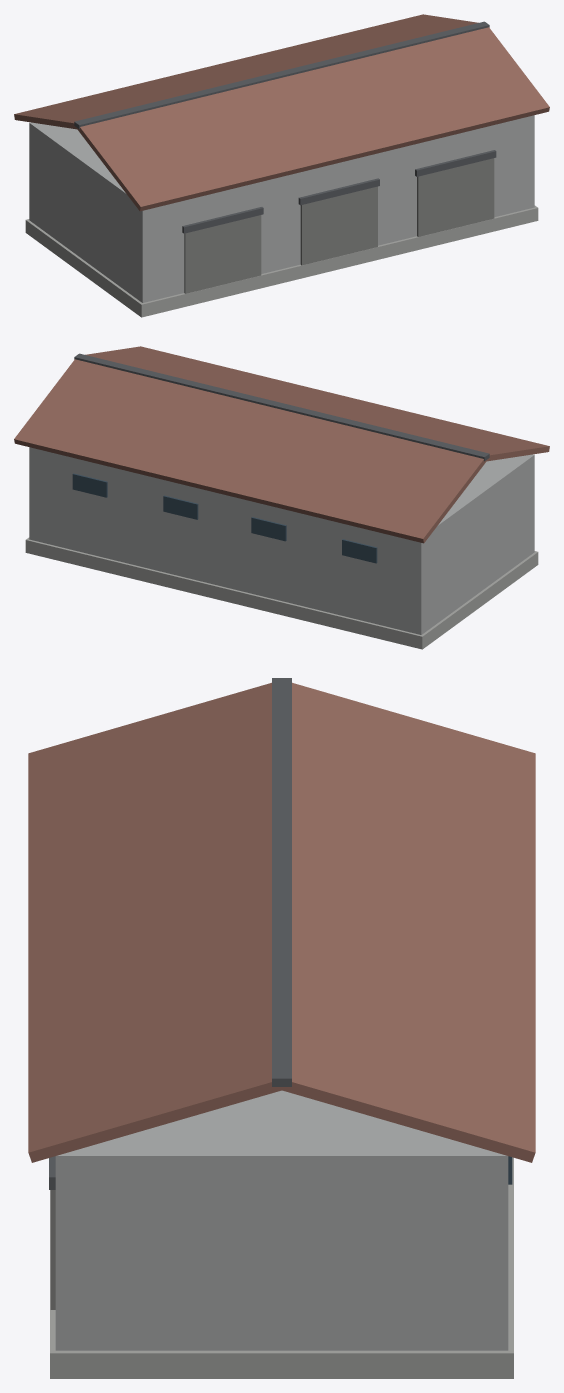
Rendered from bld_warehouse.glb.
3 renders of one model, top to bottom at view 1: azimuth 30°, elevation 25°; view 2: azimuth 150°, elevation 25°; view 3: azimuth 270°, elevation 25°, orthographic. The views are drawn at different scales.
Visible parts, largest first — view 1: bld_warehouse.glb; view 2: bld_warehouse.glb; view 3: bld_warehouse.glb.
Part boxes in pixels (left/top/right/bottom): bld_warehouse.glb: left=14, top=14, right=549, bottom=317; bld_warehouse.glb: left=14, top=346, right=549, bottom=649; bld_warehouse.glb: left=28, top=678, right=535, bottom=1378.
Size of the model in its own units: 33.5 by 11.96 by 17.93.
